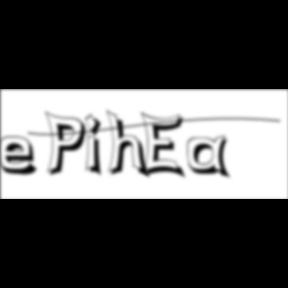E: (142, 110, 190, 182)
P: (46, 110, 92, 180)
a: (188, 135, 236, 182)
e: (0, 135, 46, 178)
h: (106, 108, 154, 182)
i: (85, 112, 109, 180)
